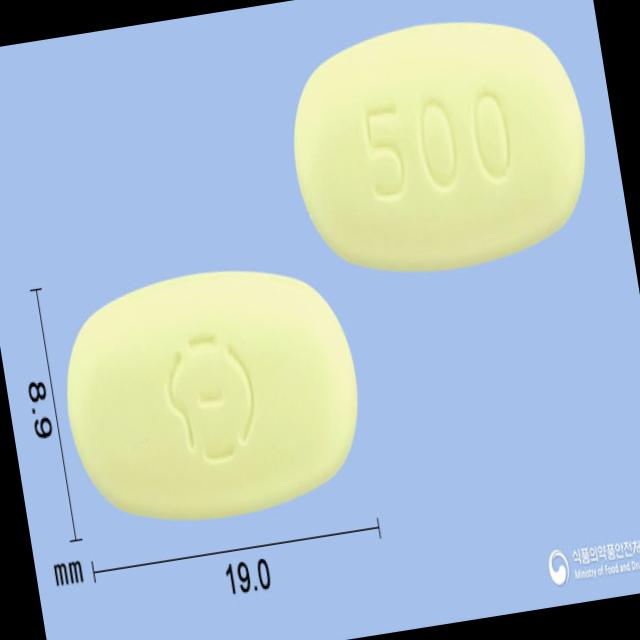Clarione: (271, 0, 609, 304), (44, 241, 379, 547)
